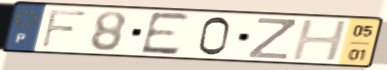0: (197, 15, 232, 57)
8: (88, 10, 129, 53)
E: (138, 10, 194, 57)
F: (38, 8, 90, 49)
H: (289, 19, 352, 62)
Z: (245, 16, 298, 61)
